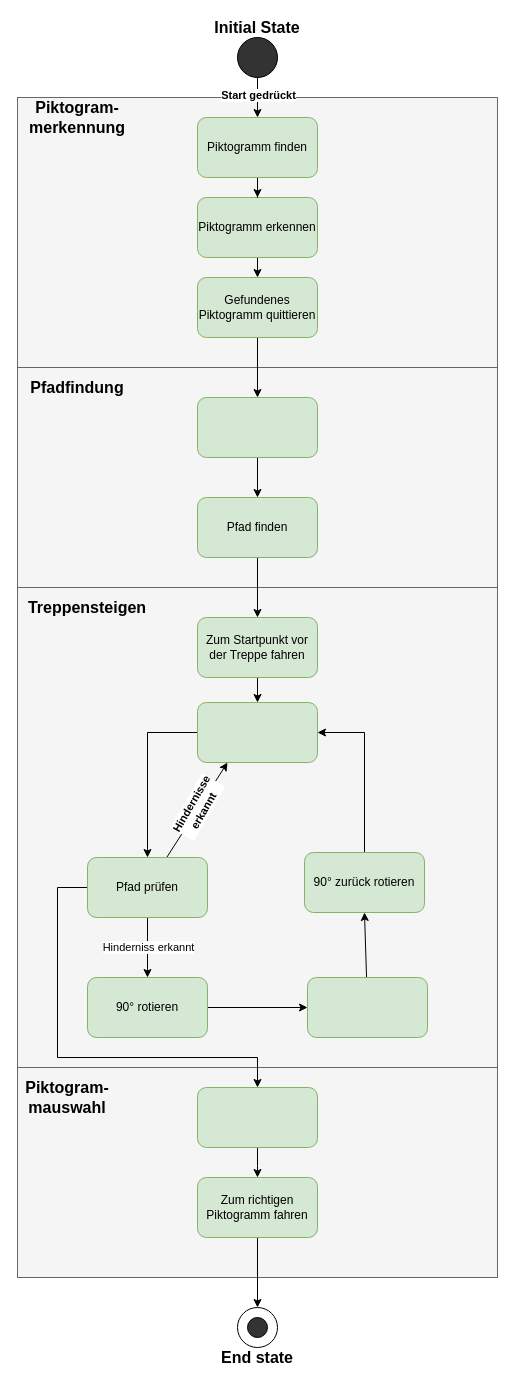
The diagram is 515 pixels wide and 1384 high, and some of its shapes have lost their labels. Here are the shapes that lost their labels. From the top down, the centre of each, then its label:
the point at 257,427: Treppe finden
the point at 257,732: Stufe erklimmen
the point at 367,1007: Zum Startpunkt für Erklimmung fahren
the point at 257,1117: Richtiges Piktogramm wählen
